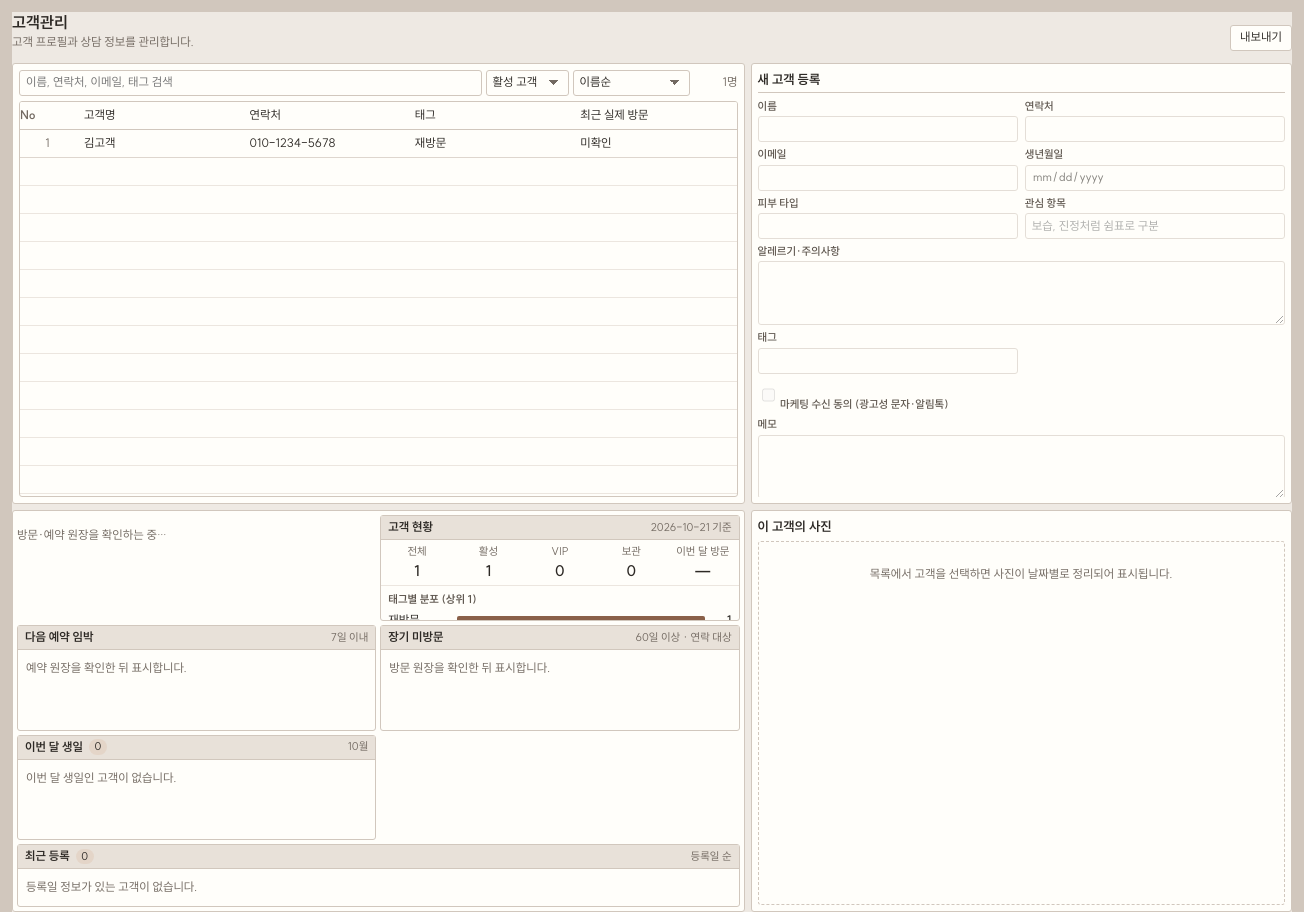
Test: CustomerPage 마케팅 수신 동의(CRM-13) › 조회 전용이면 수신 동의를 바꿀 수 없다
Click the text "김고객" at (158, 144), box [75,130,240,158]
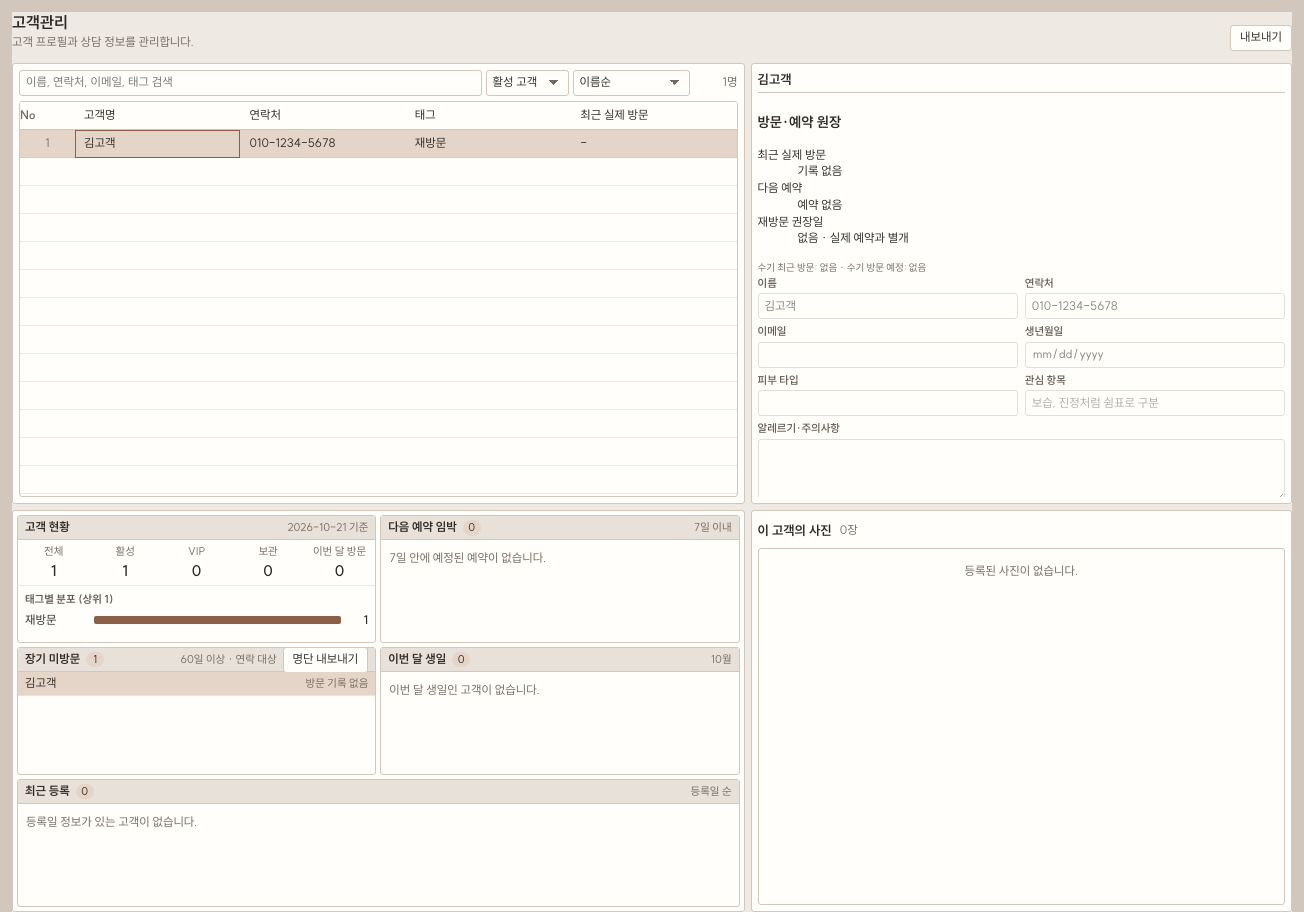
Result: the field showing "김고객" is shown at [758,294,1018,320]
